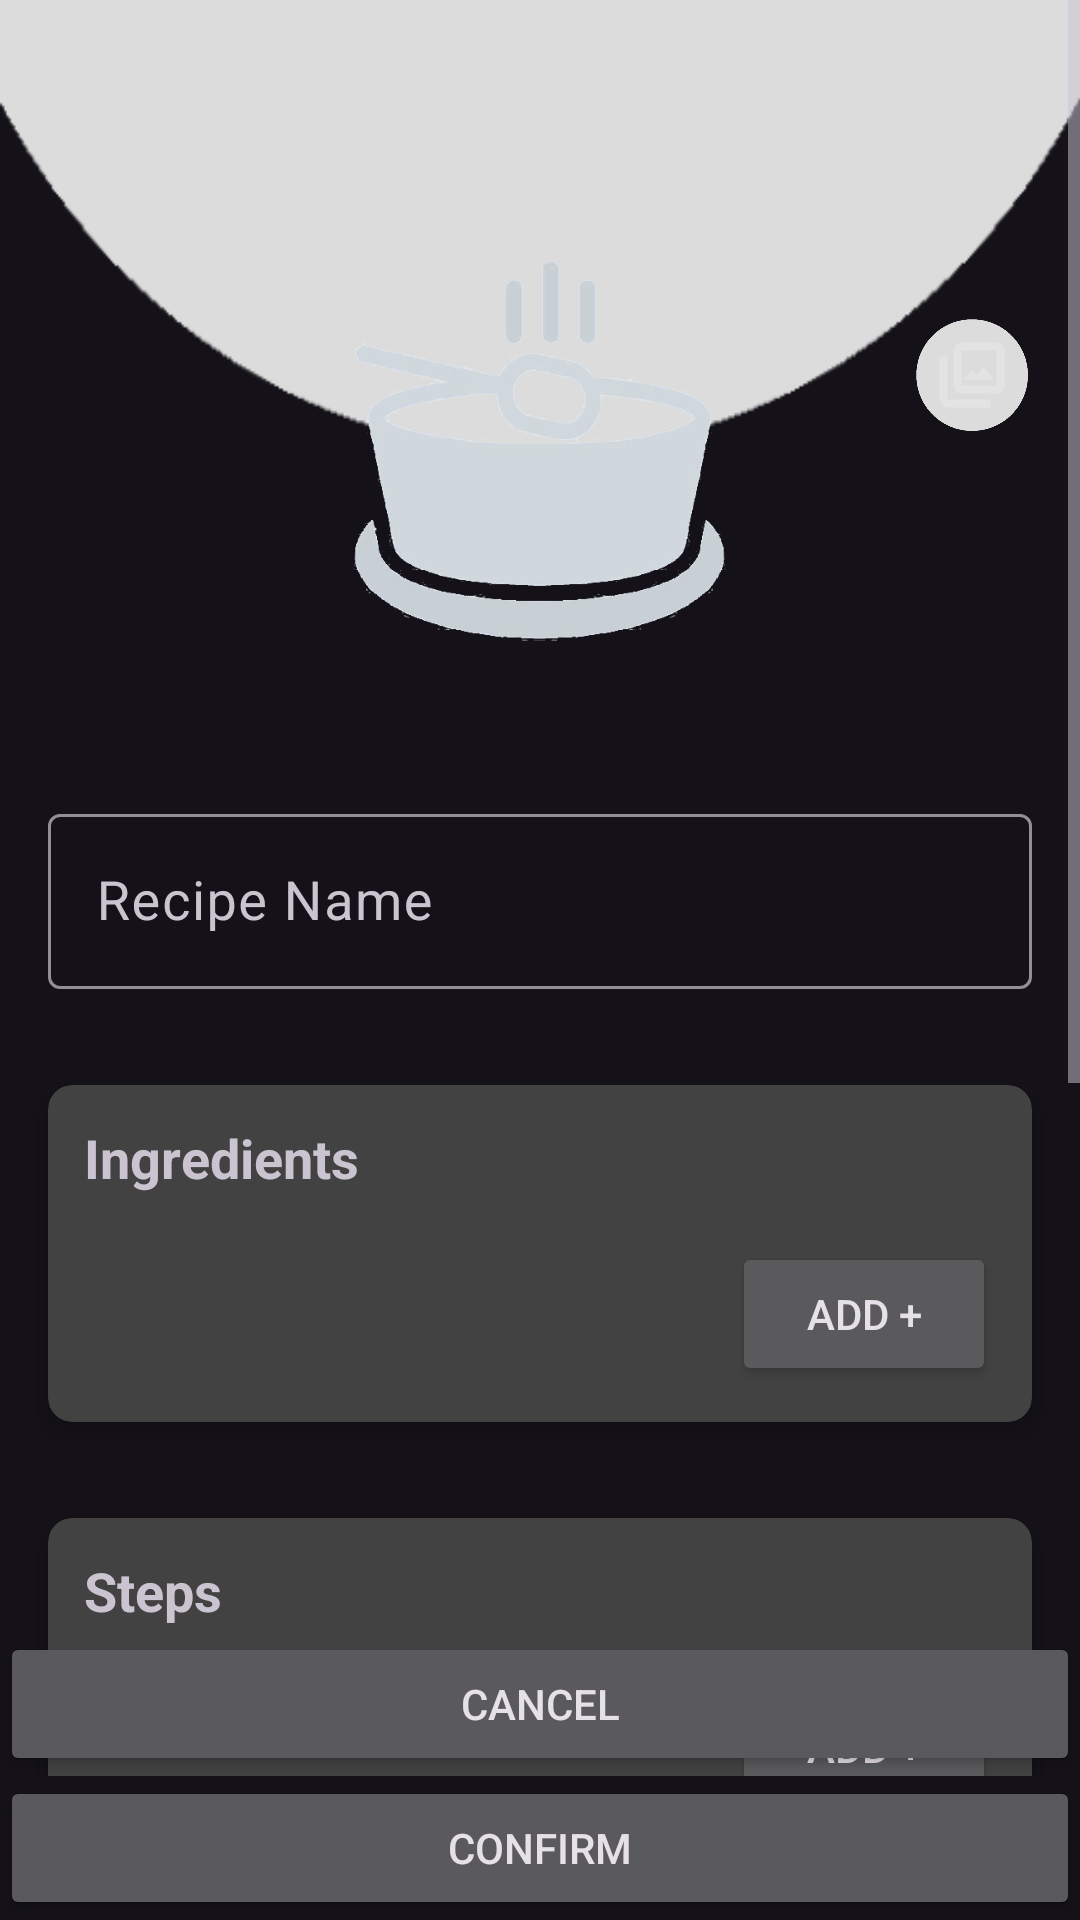

Point at icon controls on the screen. Image size 1080x1920, points as (x=x, y=y).
photo library: (x=972, y=375)
